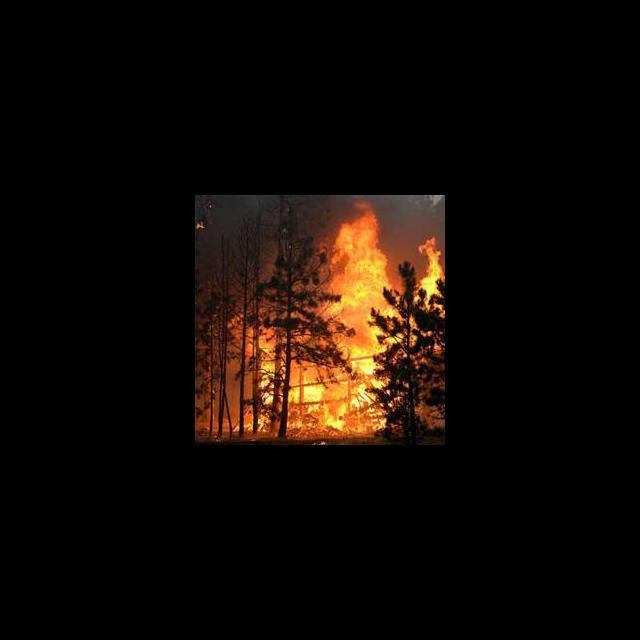Fire: (235, 196, 445, 436)
